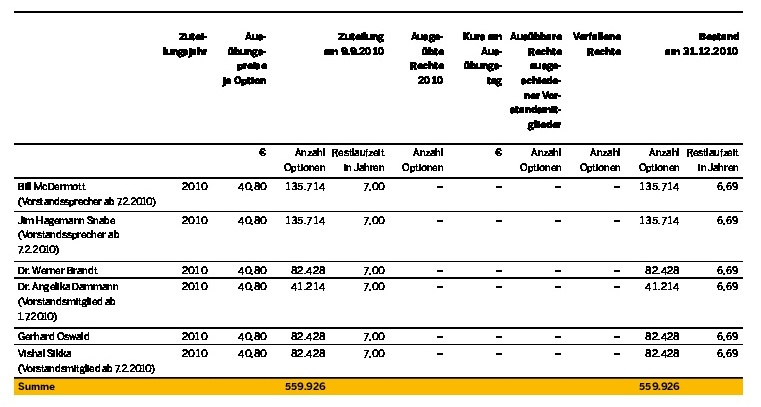table: (0, 0, 761, 407)
